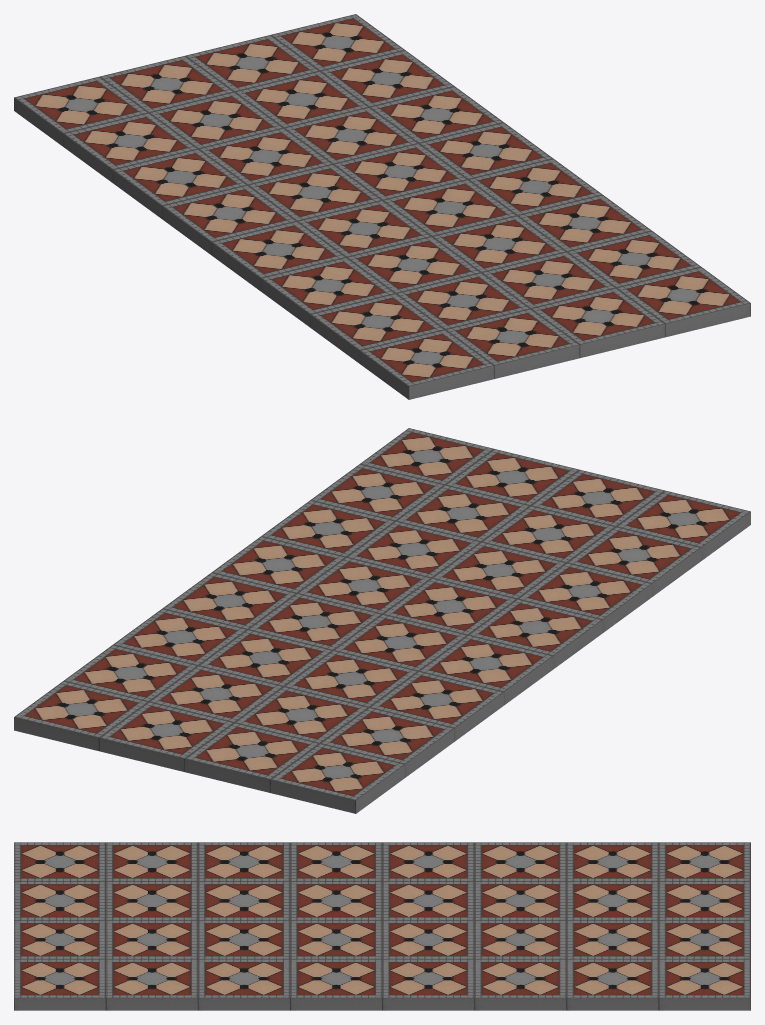
File: onlychurchfloor.fbx
3 views of the same model, one above another, from view 1: azimuth 30°, elevation 25°; view 2: azimuth 150°, elevation 25°; view 3: azimuth 270°, elevation 25° (orthographic). The views are drawn at different scales.
Parts seen in each view (by area): view 1: Suelo_low.022; view 2: Suelo_low.022; view 3: Suelo_low.022.
Part boxes in pixels (x1,y1,x2,y2): Suelo_low.022: (14, 14, 750, 399); Suelo_low.022: (14, 428, 750, 813); Suelo_low.022: (14, 842, 750, 1010).
Size of the model in its own units: 1600 by 60 by 3200.
